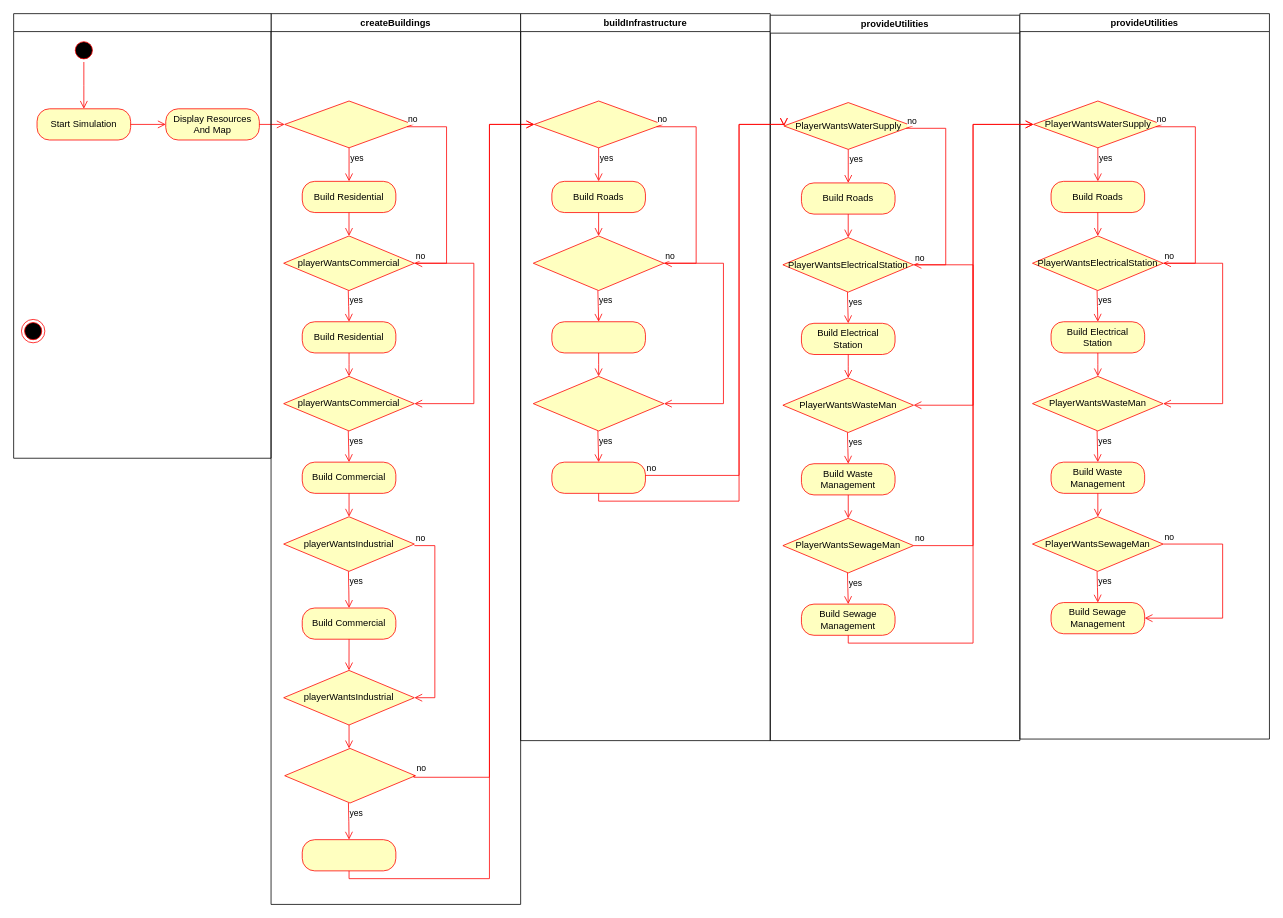
Some shapes in this 1283 by 918 pixel diagram are drawn without their labels. The centre of each missing label's shape, as x and y in pixels:
"Build Airports" belongs at (x=598, y=477).
"Build Landmark" belongs at (x=348, y=855).
"Build Train Tracks" belongs at (x=598, y=337).
"Main" belongs at (x=142, y=235).
"PlayerWantsAirports" belongs at (x=598, y=403).
"playerWantsLandMark" belongs at (x=349, y=775).
"playerWantsResidential" belongs at (x=348, y=124).
"PlayerWantsRoads" belongs at (x=598, y=124).
"PlayerWantsTrainTracks" belongs at (x=598, y=263).
